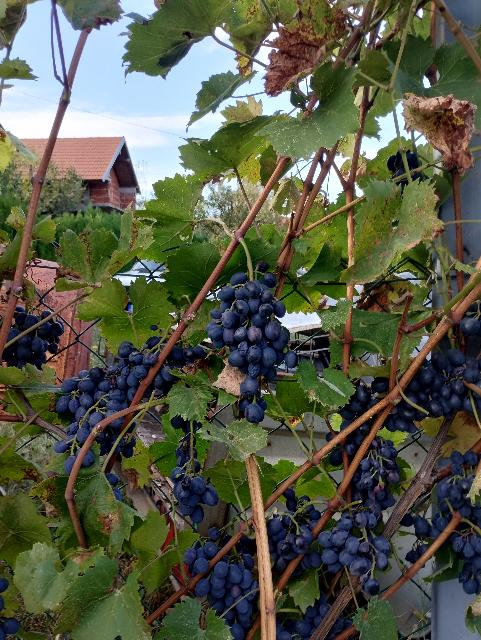grapes: (206, 262, 298, 424), (54, 336, 161, 474), (184, 541, 259, 640), (268, 488, 321, 572), (145, 346, 206, 399), (171, 466, 219, 522), (96, 419, 136, 458)
